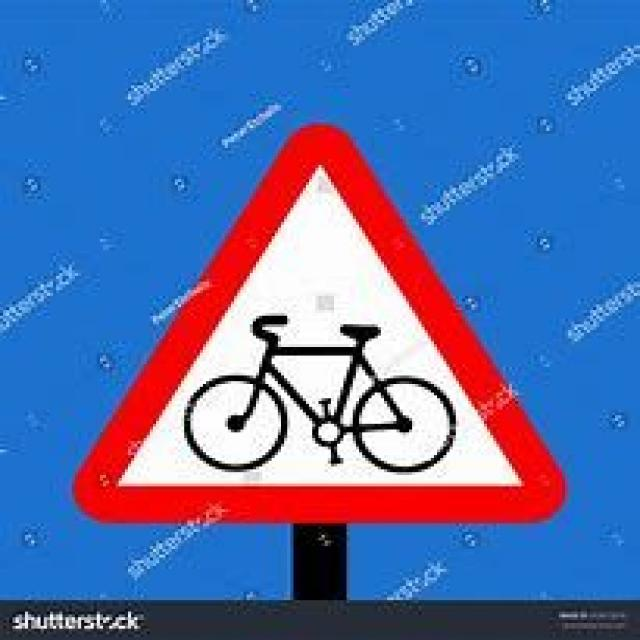CYCLE_CROSSING: (72, 120, 562, 520)
